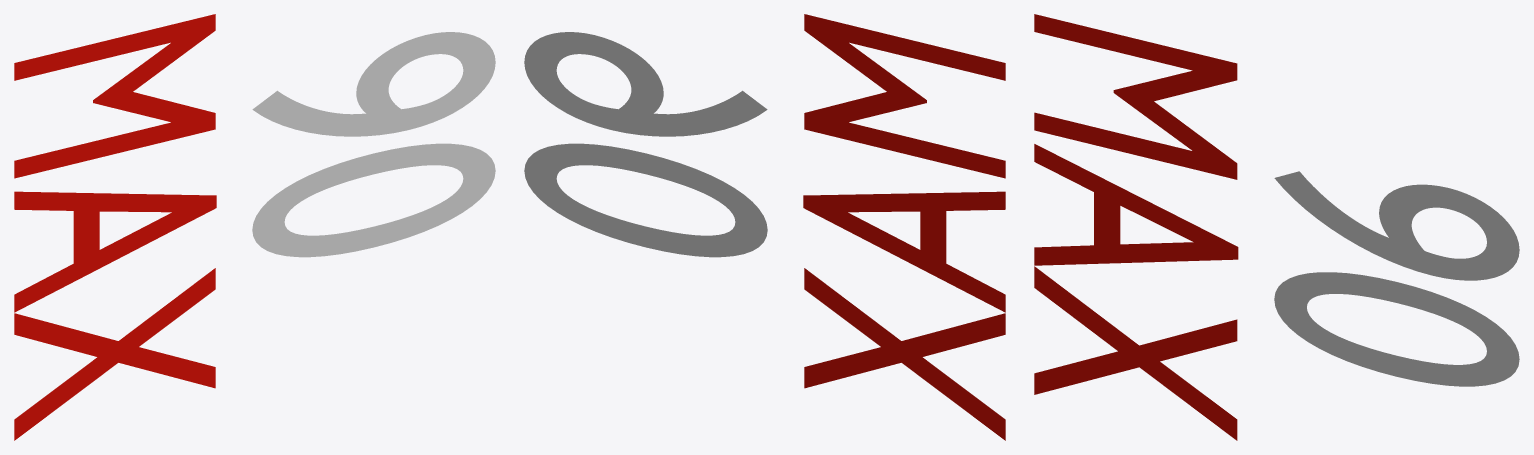
The model's file is 地面标识-限速上限90.gltf.
3 views of the same model, side by side, from view 1: azimuth 30°, elevation 25°; view 2: azimuth 150°, elevation 25°; view 3: azimuth 330°, elevation 25° (orthographic).
Visible parts, largest first — view 1: 文本.002, 文本; view 2: 文本.002, 文本; view 3: 文本.002, 文本.
Boxes of the visible parts, box(x1,y1,x2,y2) form: 文本.002: box(14, 14, 216, 440); 文本: box(252, 32, 495, 257); 文本.002: box(803, 14, 1005, 440); 文本: box(524, 32, 767, 257); 文本.002: box(1034, 14, 1238, 440); 文本: box(1274, 171, 1519, 386).
Size of the model in its own units: 3.4 by 2.55 by 8.08e-07.
